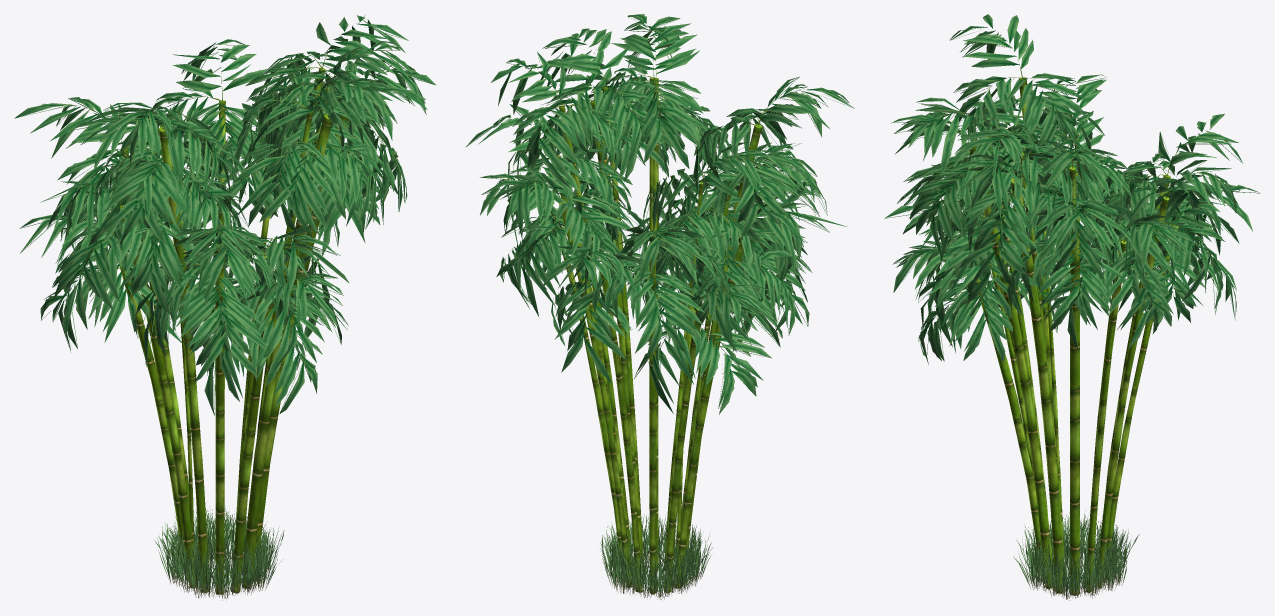
Rendered from tre.glb.
3 views of the same model, side by side, from view 1: azimuth 30°, elevation 25°; view 2: azimuth 150°, elevation 25°; view 3: azimuth 270°, elevation 25° (orthographic). The views are drawn at different scales.
Parts seen in each view (by area): view 1: bamboo_tree; view 2: bamboo_tree; view 3: bamboo_tree.
Boxes of the visible parts, x1,y1,x2,y2 form: bamboo_tree: (14, 15, 435, 600); bamboo_tree: (466, 14, 854, 599); bamboo_tree: (884, 14, 1260, 600).
Bounding box in the file's own units: 0.7256 × 0.9993 × 0.6754.
Materials: 3 (3 with a texture image).
